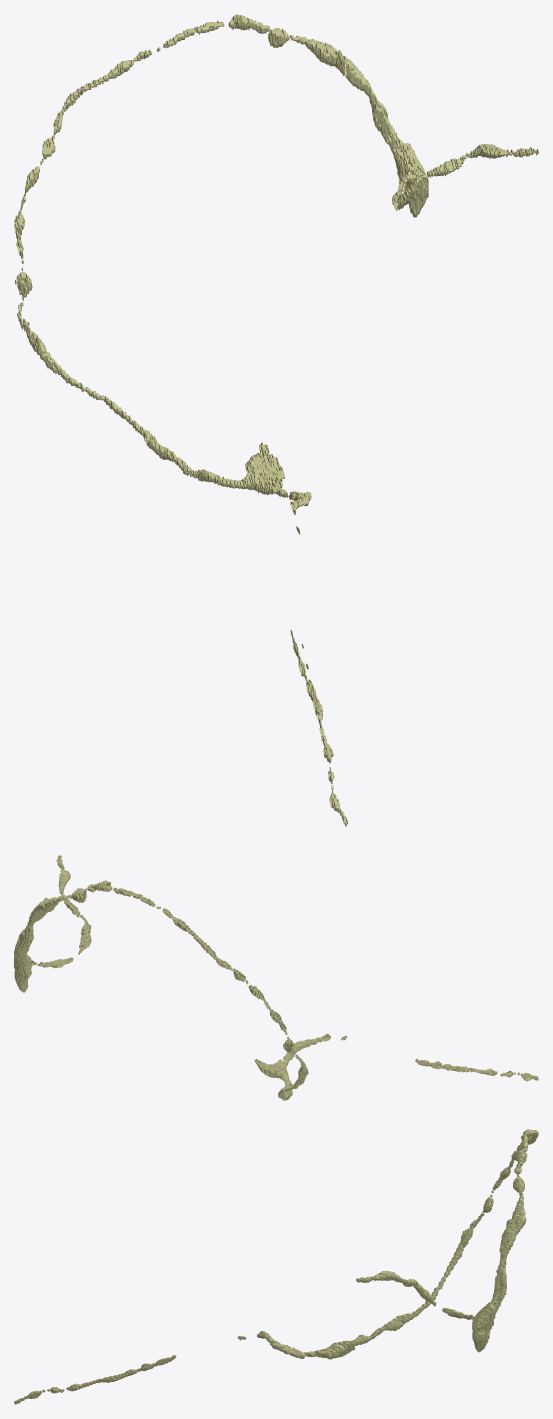
The model's file is SVV_SAADL.gltf.
3 renders of one model, top to bottom at view 1: azimuth 30°, elevation 25°; view 2: azimuth 150°, elevation 25°; view 3: azimuth 270°, elevation 25°, orthographic. The views are drawn at different scales.
Parts seen in each view (by area): view 1: SAADL; view 2: SAADL; view 3: SAADL.
Boxes of the visible parts, left/top/right/bottom form: SAADL: left=14, top=14, right=538, bottom=826; SAADL: left=14, top=855, right=538, bottom=1100; SAADL: left=14, top=1129, right=538, bottom=1404.
Size of the model in its own units: 146982 by 155036 by 216923.
